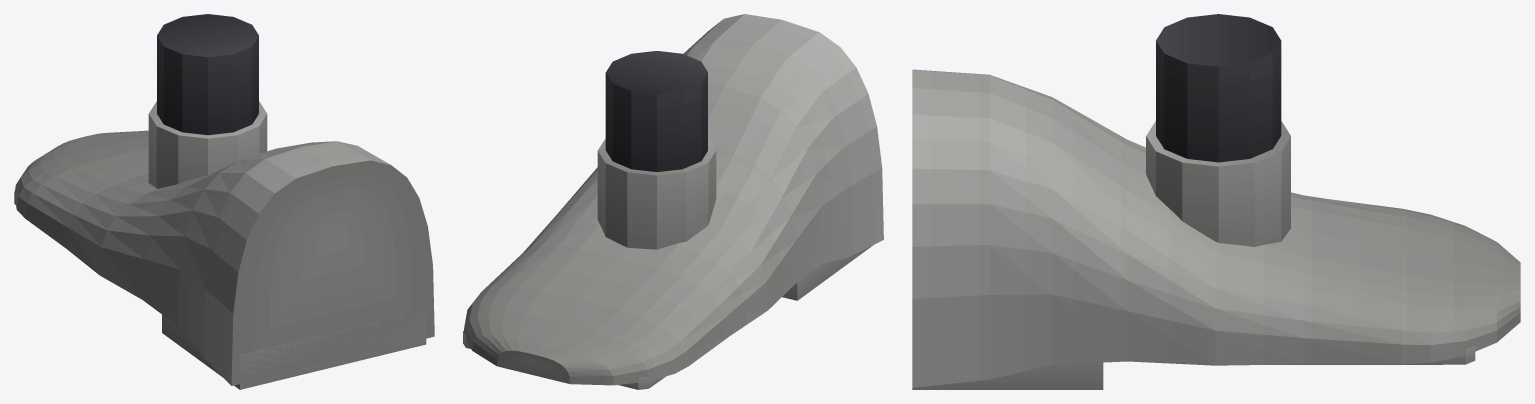
The model's file is streetlight_ltkc0.obj.
3 renders of one model, left to right at view 1: azimuth 30°, elevation 25°; view 2: azimuth 150°, elevation 25°; view 3: azimuth 270°, elevation 25°, orthographic. The views are drawn at different scales.
Parts seen in each view (by area): view 1: fixture; view 2: fixture; view 3: fixture.
Part boxes in pixels (x1=…): fixture: x1=14, y1=14, x2=434, y2=389; fixture: x1=463, y1=14, x2=883, y2=389; fixture: x1=912, y1=14, x2=1520, y2=389.
Bounding box in the file's own units: 0.2937 × 0.3075 × 0.5772.
